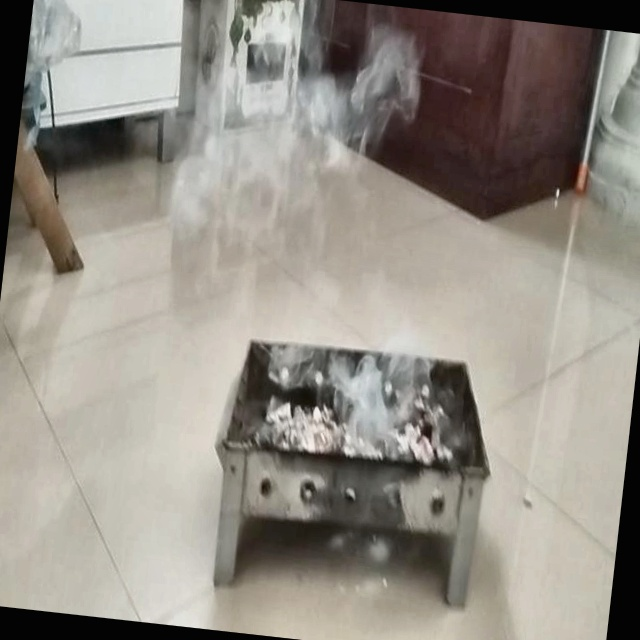smoke: (210, 81, 365, 305)
